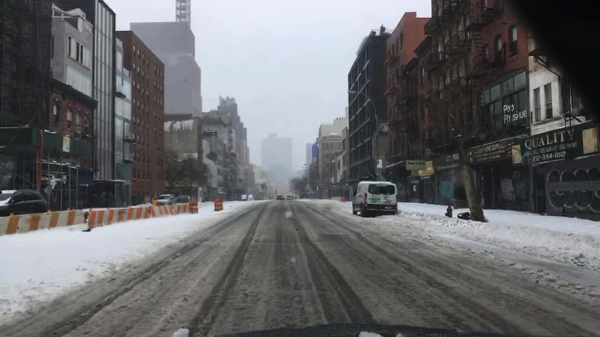car: (1, 190, 48, 218), (156, 194, 177, 206), (177, 194, 190, 202), (276, 195, 284, 202), (286, 194, 292, 202), (299, 193, 308, 198), (247, 194, 254, 200), (242, 194, 247, 201), (258, 197, 263, 200)
person: (92, 192, 99, 208), (132, 190, 138, 208), (137, 191, 143, 206), (100, 190, 105, 207), (108, 192, 113, 209)
truck: (351, 182, 397, 218)
